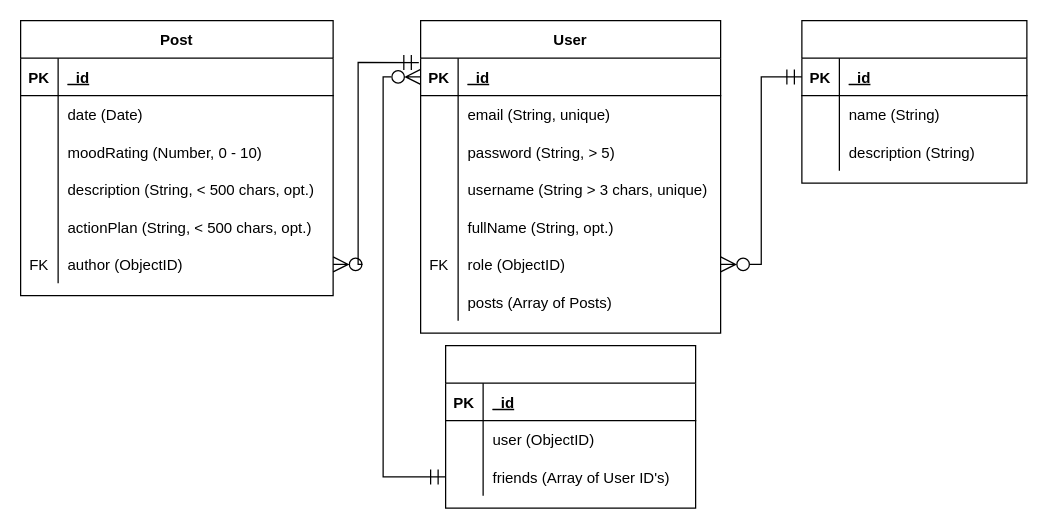
Image size: 1048x529. Some labels were removed from this diagram. Each missing label, with the box of its shape:
FriendList: (444, 344, 696, 508)
Role: (801, 19, 1027, 183)
